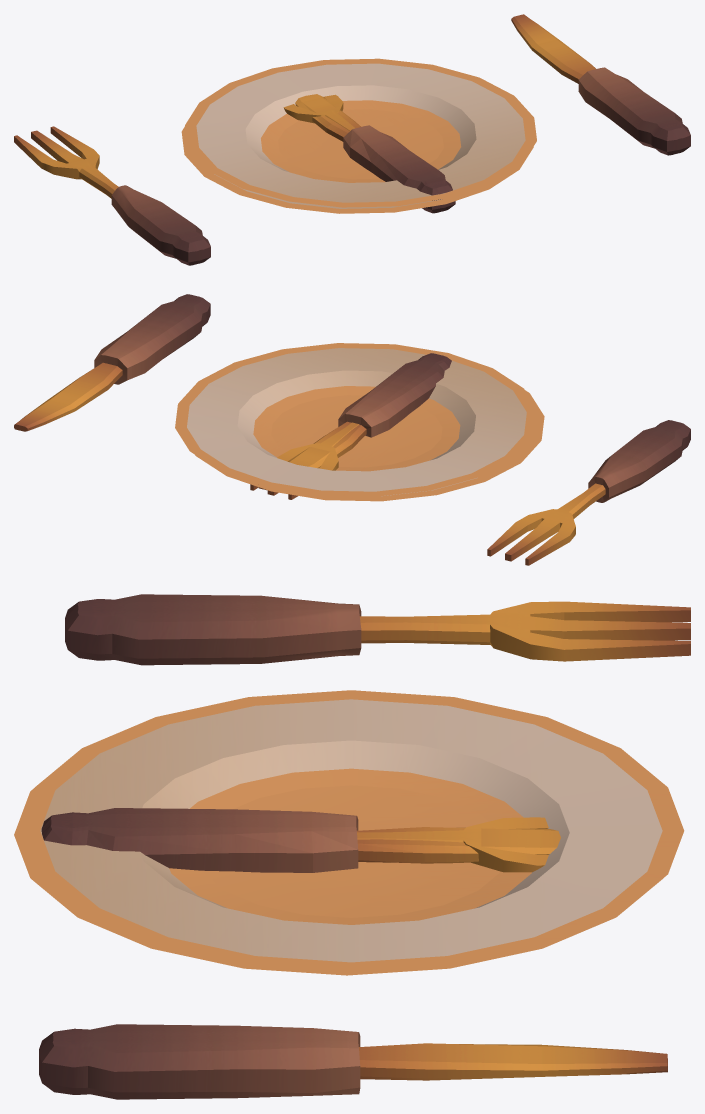
The model's file is knife_plate_fork.fbx.
The picture shows the model from 3 angles, top to bottom: view 1: azimuth 30°, elevation 25°; view 2: azimuth 150°, elevation 25°; view 3: azimuth 270°, elevation 25°; orthographic projection. The views are drawn at different scales.
Visible parts, largest first — view 1: plate, plate_knife_fork, knife, fork; view 2: plate, plate_knife_fork, knife, fork; view 3: plate, plate_knife_fork, knife, fork.
Part boxes in pixels (x1,y1,x2,y2): plate: [185, 58, 536, 207]; plate_knife_fork: [14, 14, 690, 265]; knife: [295, 94, 455, 213]; fork: [283, 94, 354, 130]; plate: [175, 343, 538, 496]; plate_knife_fork: [14, 294, 690, 565]; knife: [258, 353, 451, 490]; fork: [250, 422, 359, 499]; plate: [18, 690, 684, 971]; plate_knife_fork: [14, 594, 690, 1099]; knife: [41, 808, 560, 872]; fork: [357, 817, 548, 872].
Bounding box in the file's own units: 0.8797 × 0.0423 × 0.5267.
